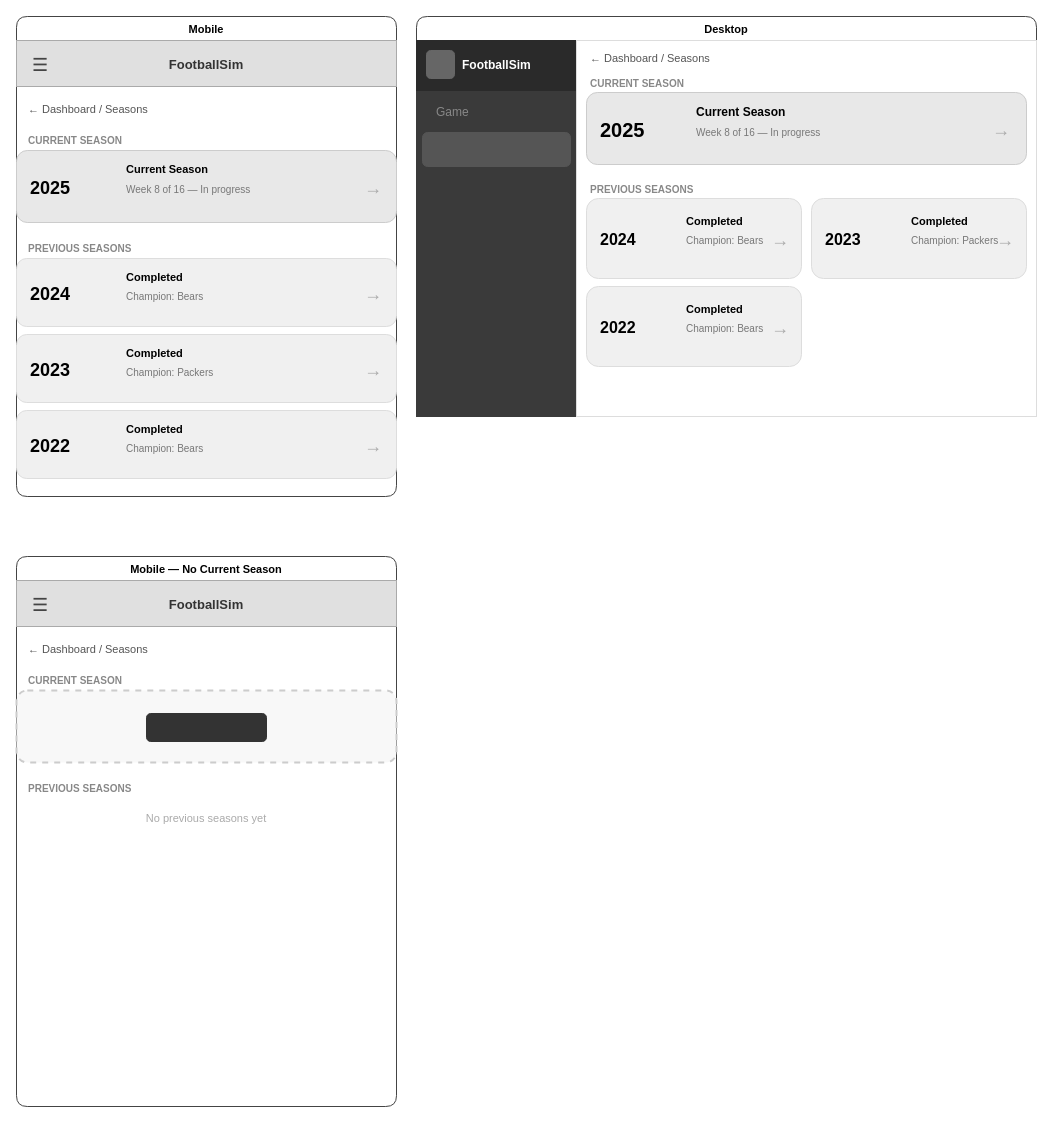
The diagram is 1053 pixels wide and 1123 high, and some of its shapes have lost their labels. The centre of each missing label's shape, as x and y in pixels:
+ New Season: the point at 206,727
League: the point at 496,149
